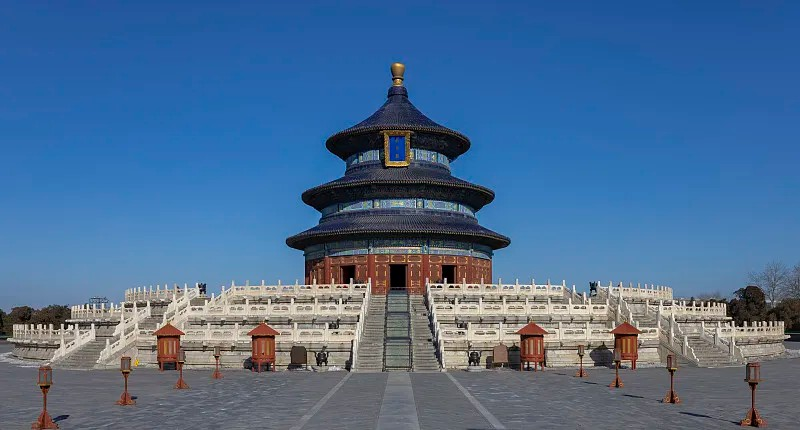Heaven: (284, 62, 512, 293)
